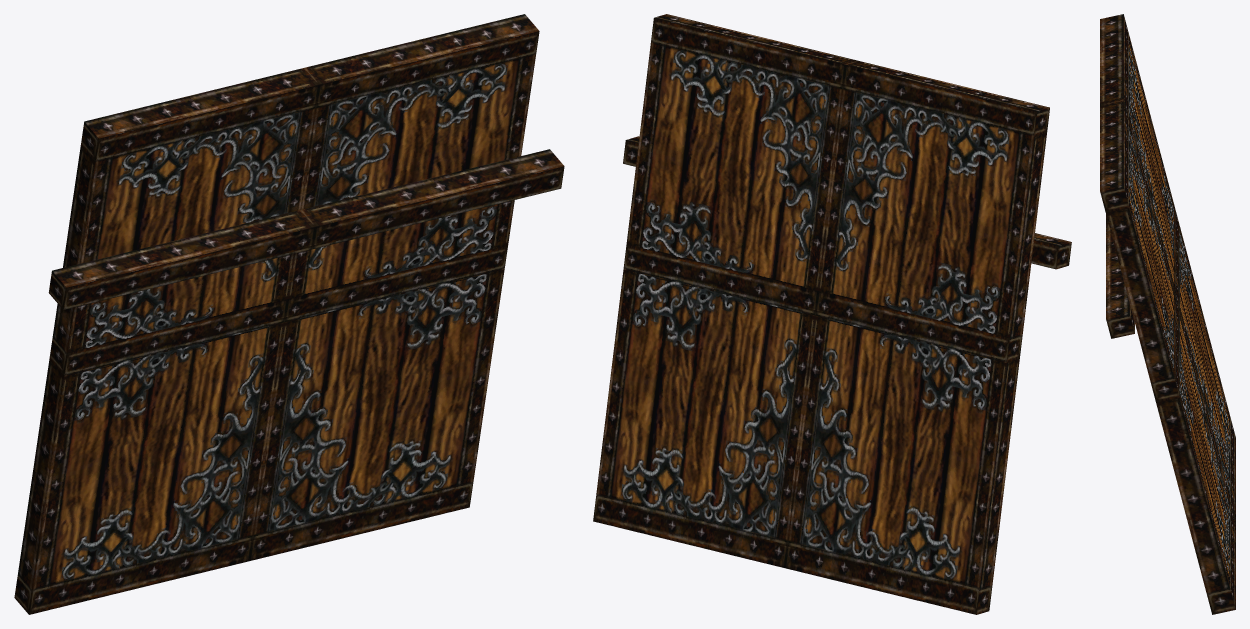
File: ANIMATEDINSTANCES_D_BRIDGE_02__AI.fbx
3 renders of one model, left to right at view 1: azimuth 30°, elevation 25°; view 2: azimuth 150°, elevation 25°; view 3: azimuth 270°, elevation 25°, orthographic. The views are drawn at different scales.
Visible parts, largest first — view 1: ANIMATEDINSTANCES_D_BRIDGE_02__AI; view 2: ANIMATEDINSTANCES_D_BRIDGE_02__AI; view 3: ANIMATEDINSTANCES_D_BRIDGE_02__AI.
Boxes of the visible parts, x1=… form: ANIMATEDINSTANCES_D_BRIDGE_02__AI: x1=14, y1=14, x2=564, y2=614; ANIMATEDINSTANCES_D_BRIDGE_02__AI: x1=593, y1=14, x2=1071, y2=614; ANIMATEDINSTANCES_D_BRIDGE_02__AI: x1=1100, y1=14, x2=1235, y2=614.
Size of the model in its own units: 39188 by 40153 by 11525.
1 material, 1 textured.
